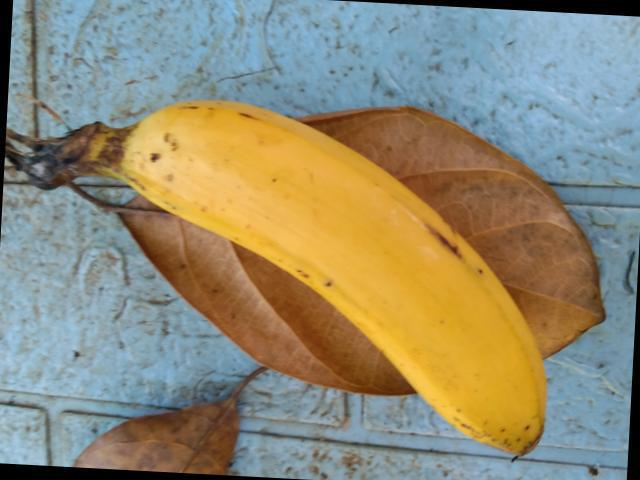freshripe: (119, 73, 561, 472)
